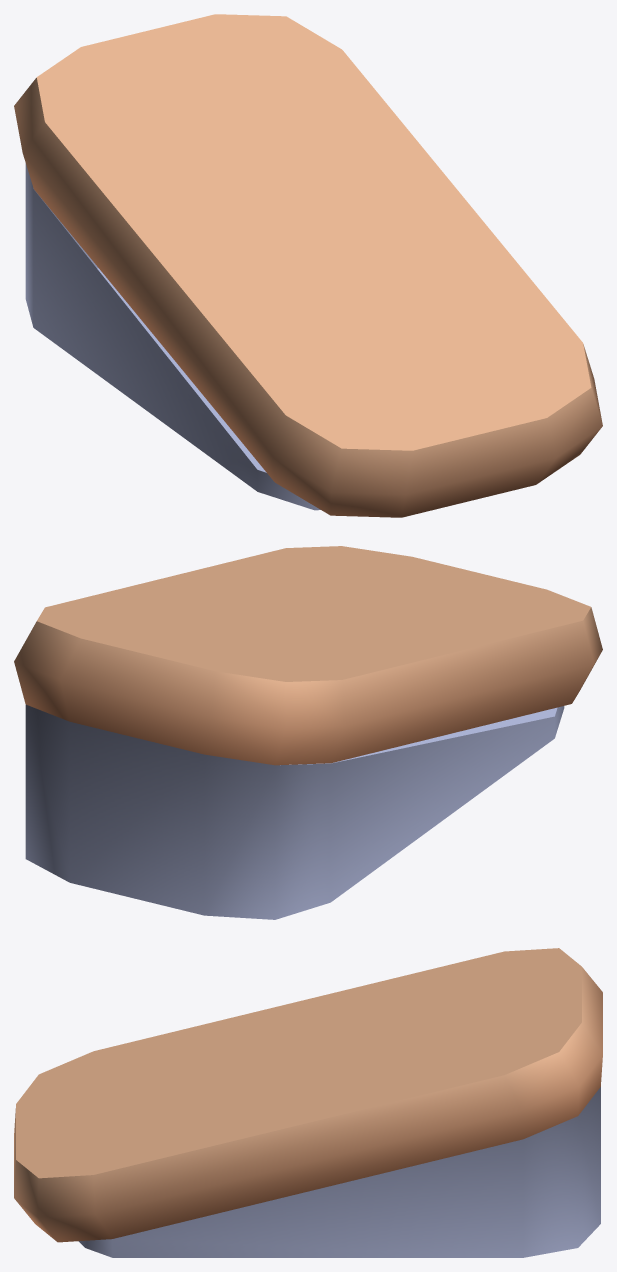
The model's file is block-grass-large-slope-narrow.glb.
3 renders of one model, top to bottom at view 1: azimuth 30°, elevation 25°; view 2: azimuth 150°, elevation 25°; view 3: azimuth 270°, elevation 25°, orthographic. The views are drawn at different scales.
Parts seen in each view (by area): view 1: block-grass-large-slope-narrow; view 2: block-grass-large-slope-narrow; view 3: block-grass-large-slope-narrow.
Part boxes in pixels (x1=…): block-grass-large-slope-narrow: x1=14, y1=14, x2=602, y2=517; block-grass-large-slope-narrow: x1=14, y1=546, x2=602, y2=919; block-grass-large-slope-narrow: x1=14, y1=948, x2=602, y2=1257.
Size of the model in its own units: 1.08 by 0.7591 by 2.01.
